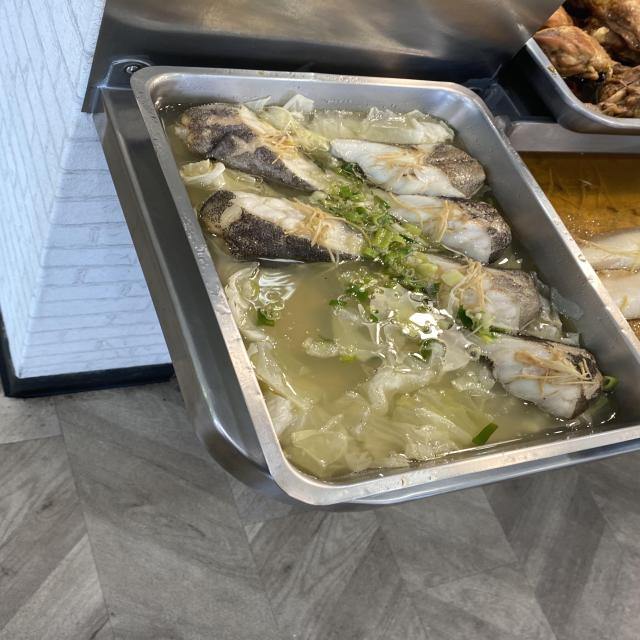Steamed fish: (235, 143, 459, 306)
